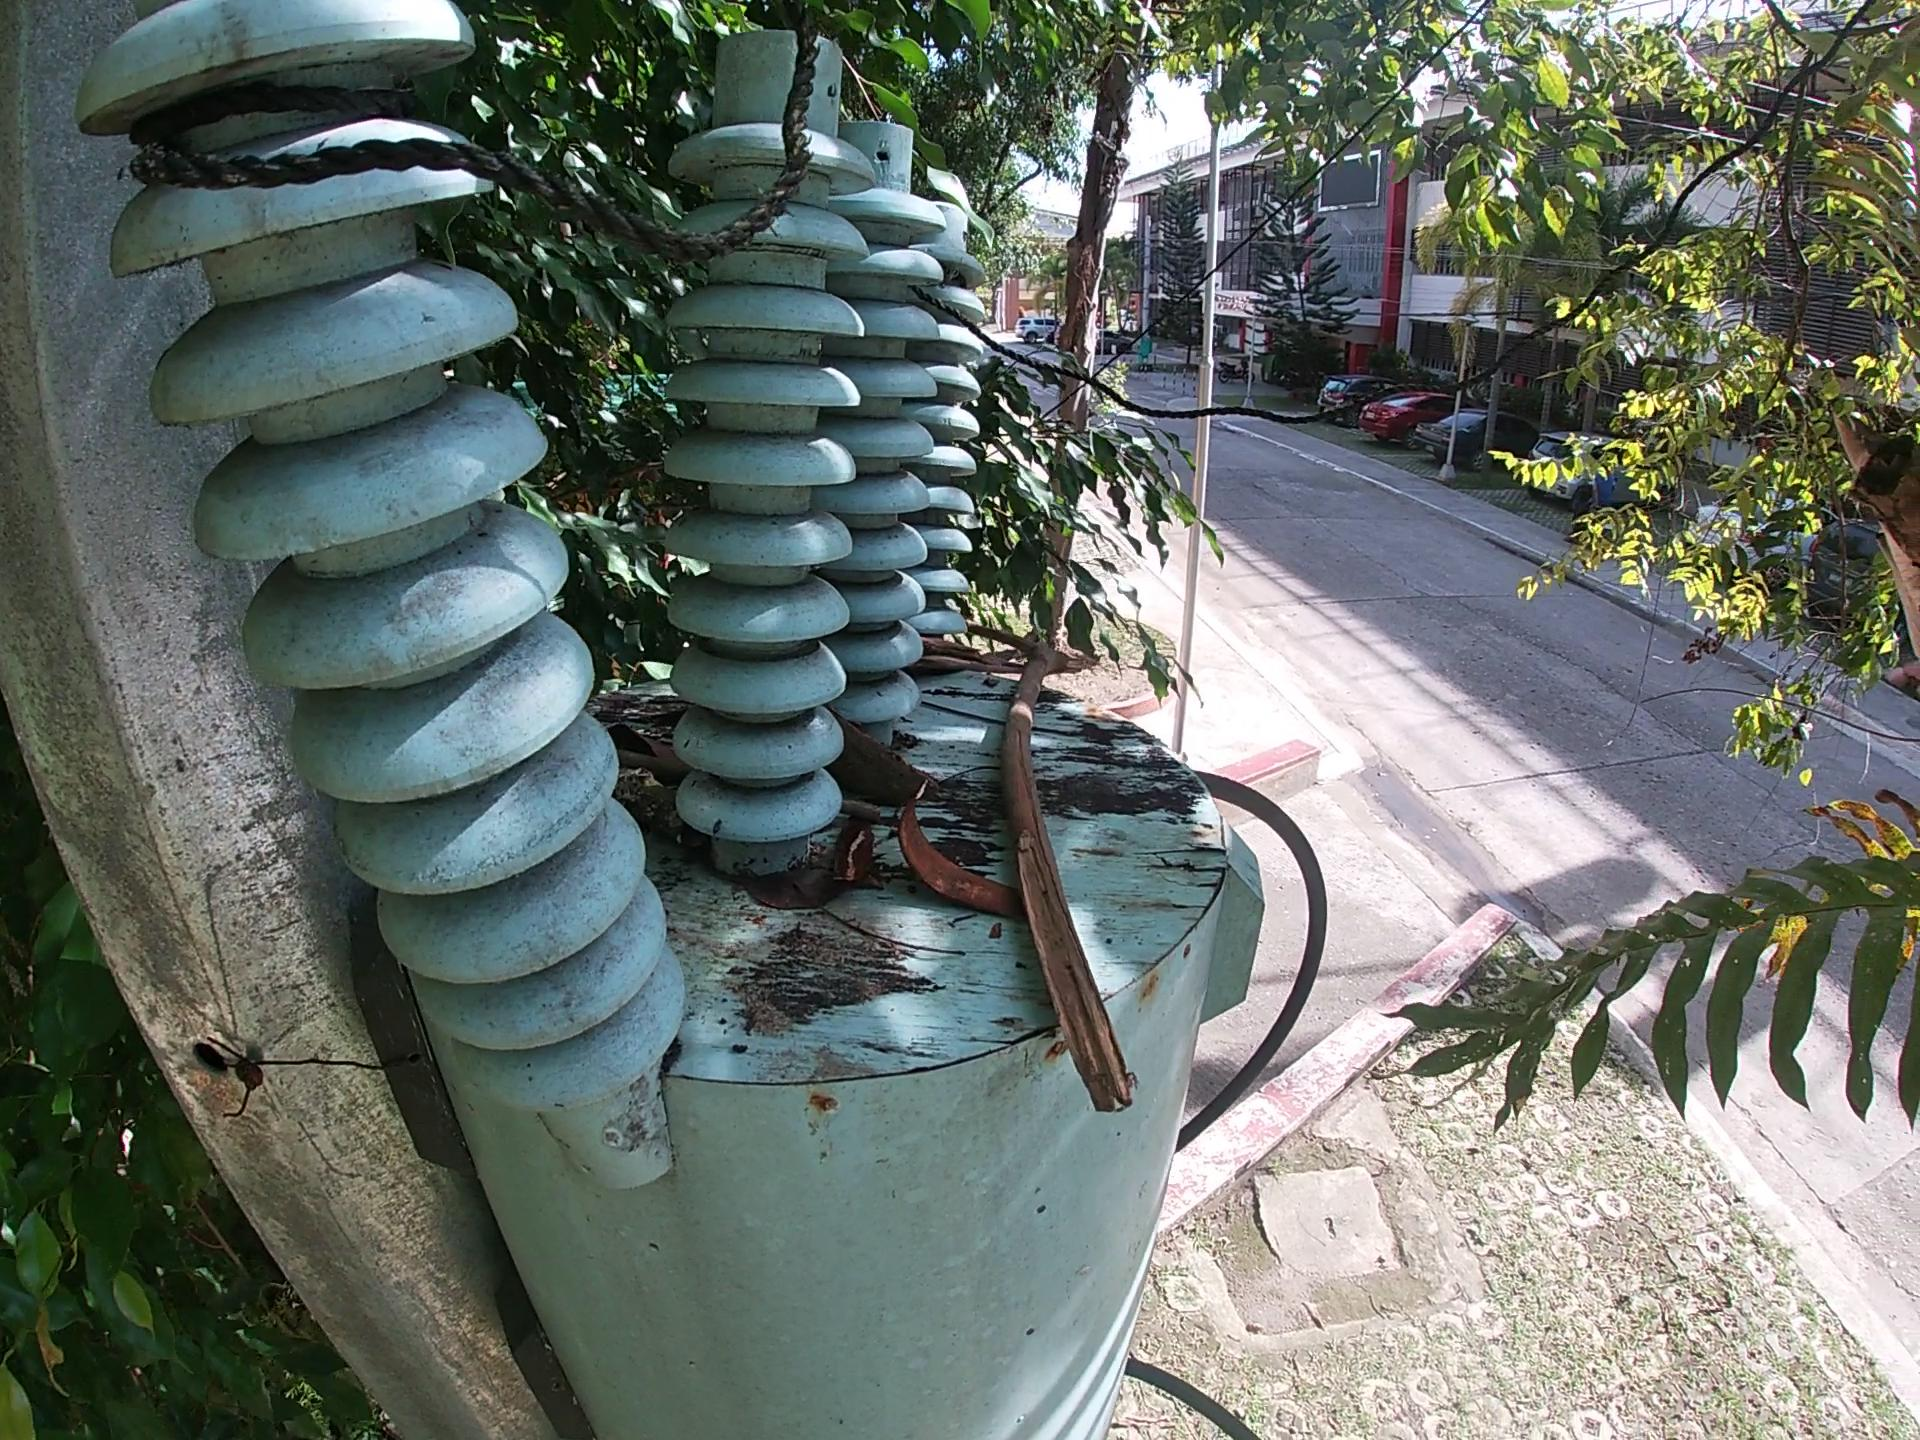leaf: (729, 859, 842, 926)
mahogany fruit: (892, 790, 1030, 926), (822, 709, 942, 806), (831, 806, 889, 886)
tree branch: (962, 620, 1138, 1116), (615, 771, 714, 852), (904, 632, 1023, 681), (615, 752, 692, 782), (838, 799, 889, 824)
